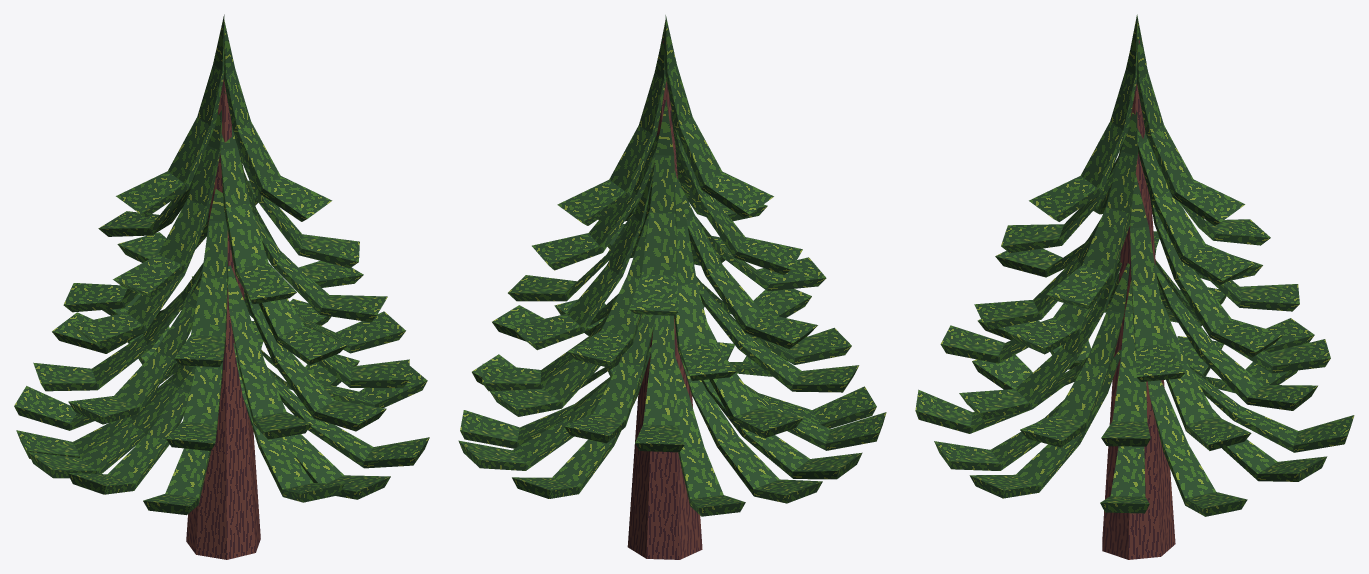
Rendered from tree.obj.
3 views of the same model, side by side, from view 1: azimuth 30°, elevation 25°; view 2: azimuth 150°, elevation 25°; view 3: azimuth 270°, elevation 25° (orthographic).
Visible parts, largest first — view 1: Leaves_4, Leaves_5_Bottom, Leaves_3, Leaves_2, Trunk, Leaves_1_Top; view 2: Leaves_5_Bottom, Leaves_4, Leaves_3, Leaves_2, Leaves_1_Top, Trunk; view 3: Leaves_4, Leaves_5_Bottom, Leaves_3, Leaves_2, Leaves_1_Top, Trunk.
Part boxes in pixels (<box>): Leaves_4: <box>33,262,409,450</box>; Leaves_5_Bottom: <box>14,321,429,515</box>; Leaves_3: <box>63,183,387,367</box>; Leaves_2: <box>98,91,359,304</box>; Trunk: <box>186,79,260,559</box>; Leaves_1_Top: <box>116,14,332,221</box>; Leaves_5_Bottom: <box>458,336,886,516</box>; Leaves_4: <box>482,276,859,452</box>; Leaves_3: <box>508,165,826,380</box>; Leaves_2: <box>532,99,802,315</box>; Leaves_1_Top: <box>557,15,773,225</box>; Trunk: <box>627,40,702,559</box>; Leaves_4: <box>940,257,1330,450</box>; Leaves_5_Bottom: <box>915,336,1354,516</box>; Leaves_3: <box>974,174,1299,381</box>; Leaves_2: <box>1001,110,1270,309</box>; Leaves_1_Top: <box>1029,14,1245,225</box>; Trunk: <box>1102,40,1175,559</box>.
Size of the model in its own units: 3.7 by 5.04 by 3.78.
